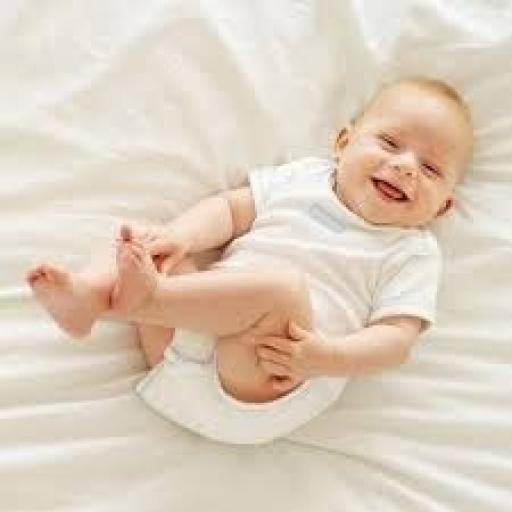laughing: (18, 66, 485, 446)
